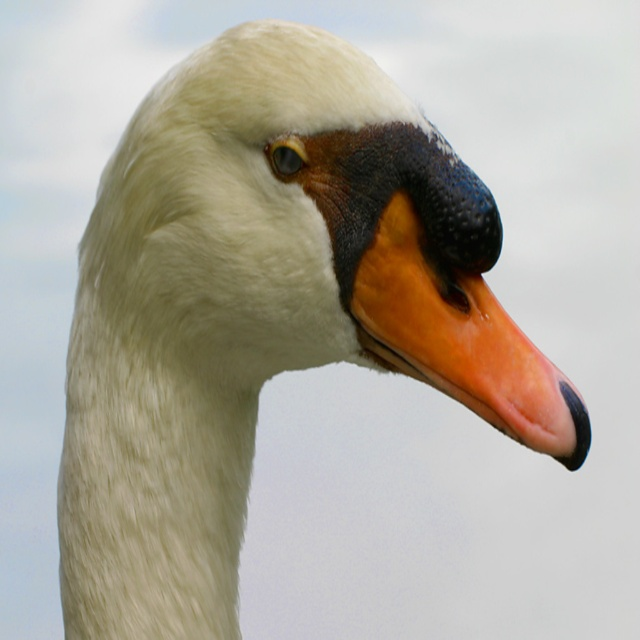Duck: (59, 15, 589, 639)
